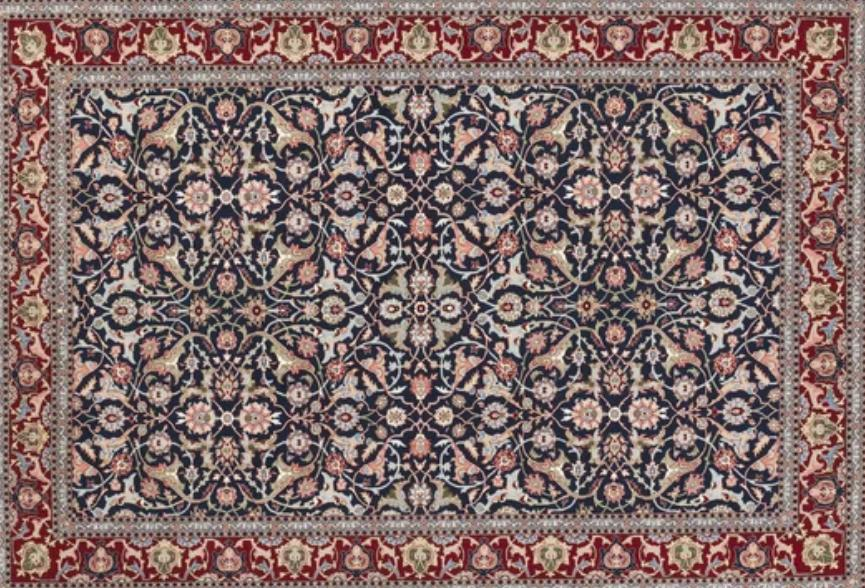carpet: (0, 3, 865, 582)
